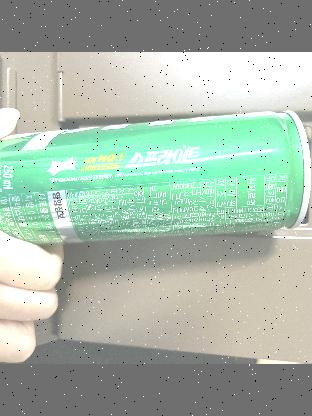Can: (0, 108, 312, 252)
